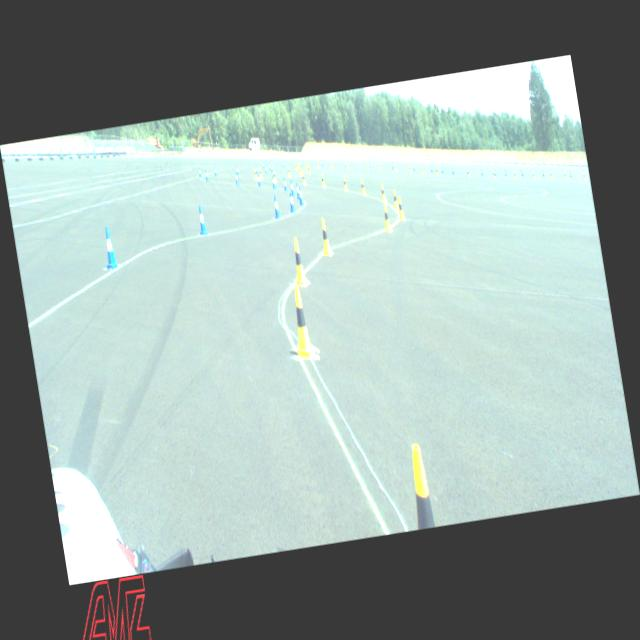blue_cone: (100, 226, 119, 270), (196, 205, 208, 235), (272, 194, 280, 218), (288, 192, 296, 212), (298, 187, 304, 206), (294, 182, 300, 199), (283, 177, 288, 191), (290, 180, 294, 196), (258, 174, 262, 187), (236, 172, 240, 185), (272, 176, 276, 188), (205, 170, 209, 182), (198, 167, 202, 178), (215, 167, 218, 176)
yellow_cone: (406, 443, 436, 530), (286, 284, 316, 359), (290, 237, 308, 286), (318, 218, 332, 256), (382, 204, 392, 232), (396, 197, 406, 220), (392, 189, 399, 209), (380, 184, 387, 201), (360, 179, 366, 194), (343, 177, 348, 190), (322, 175, 326, 188), (302, 172, 306, 184), (273, 172, 277, 182), (255, 168, 258, 178), (564, 172, 567, 179), (260, 168, 262, 178), (288, 167, 290, 176)
